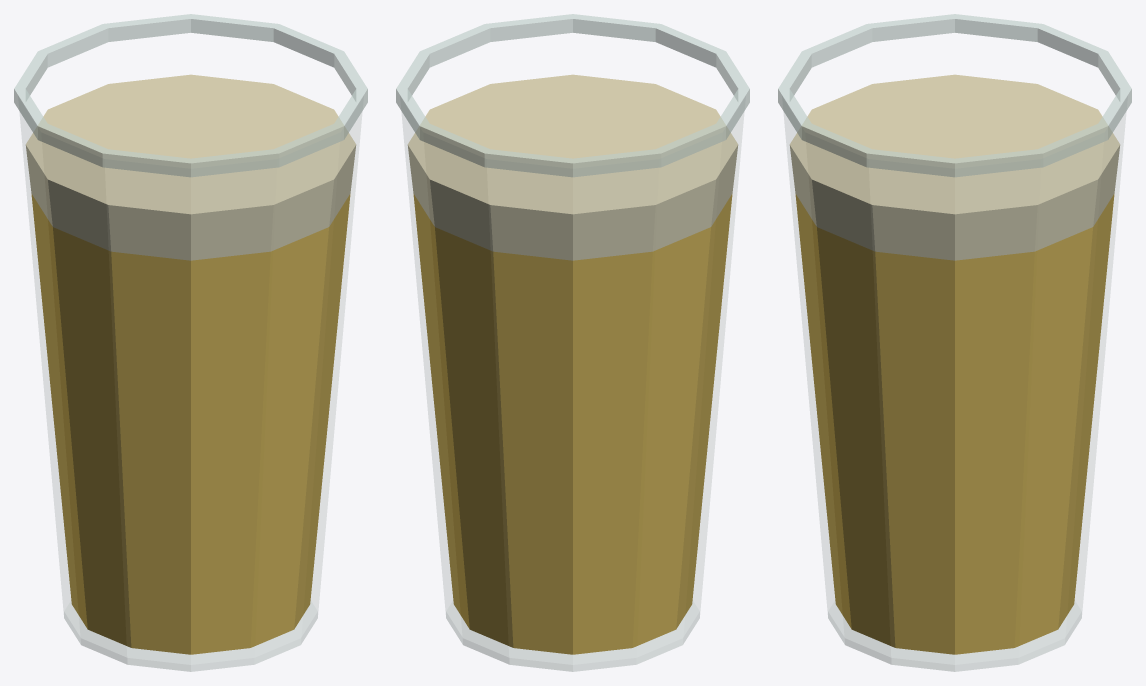
Rendered from lwf_beer_cup_v2.glb.
The picture shows the model from 3 angles, left to right: view 1: azimuth 30°, elevation 25°; view 2: azimuth 150°, elevation 25°; view 3: azimuth 270°, elevation 25°; orthographic projection.
Parts seen in each view (by area): view 1: LWF_BeerCupV2; view 2: LWF_BeerCupV2; view 3: LWF_BeerCupV2.
Part boxes in pixels (left/top/right/bottom): LWF_BeerCupV2: left=14, top=14, right=367, bottom=671; LWF_BeerCupV2: left=396, top=14, right=749, bottom=671; LWF_BeerCupV2: left=778, top=14, right=1131, bottom=671.
Bounding box in the file's own units: 0.092 × 0.152 × 0.092.
